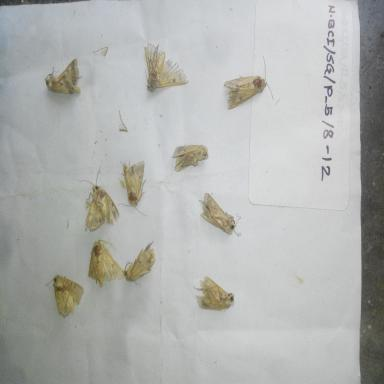abw: (222, 50, 284, 113), (138, 40, 192, 101), (74, 162, 118, 236), (196, 186, 247, 242), (41, 269, 88, 324), (85, 235, 126, 292), (118, 153, 151, 219), (121, 236, 161, 290), (193, 272, 239, 316), (41, 56, 84, 96), (171, 138, 213, 175)
